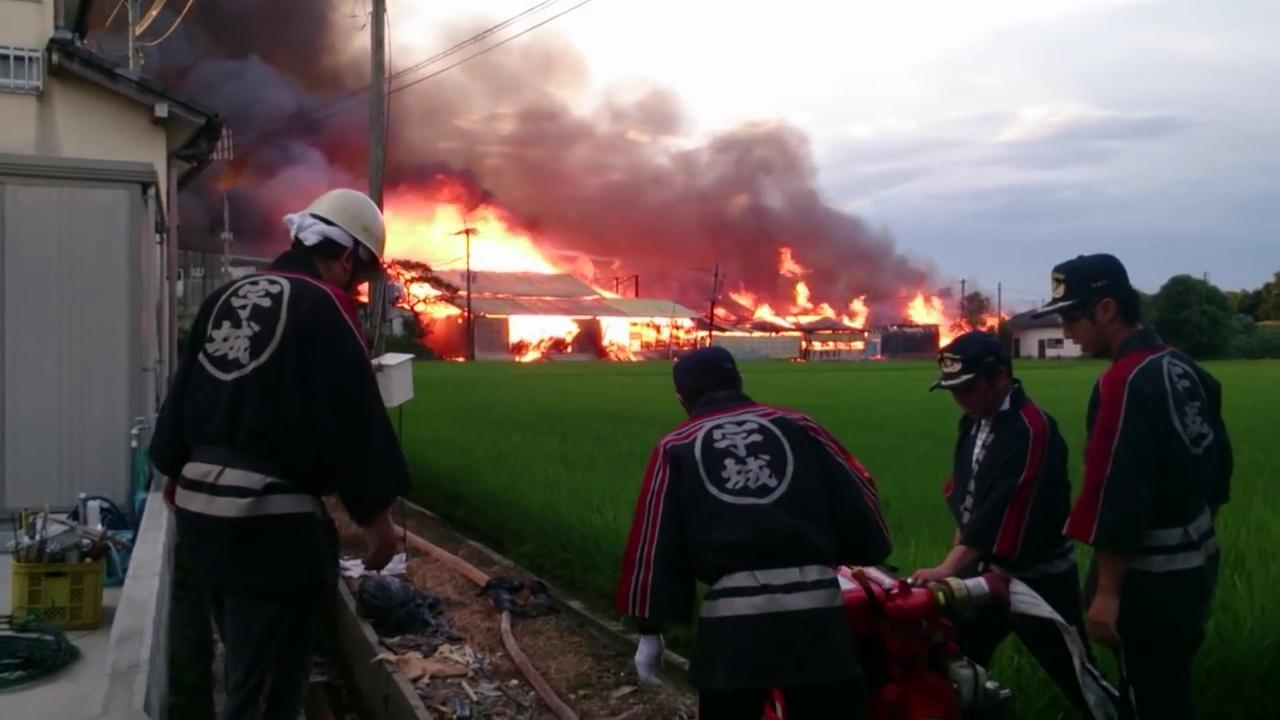fire: (383, 210, 569, 317), (704, 250, 869, 348), (909, 292, 999, 344), (595, 319, 703, 359), (509, 314, 590, 361), (574, 254, 630, 300)
